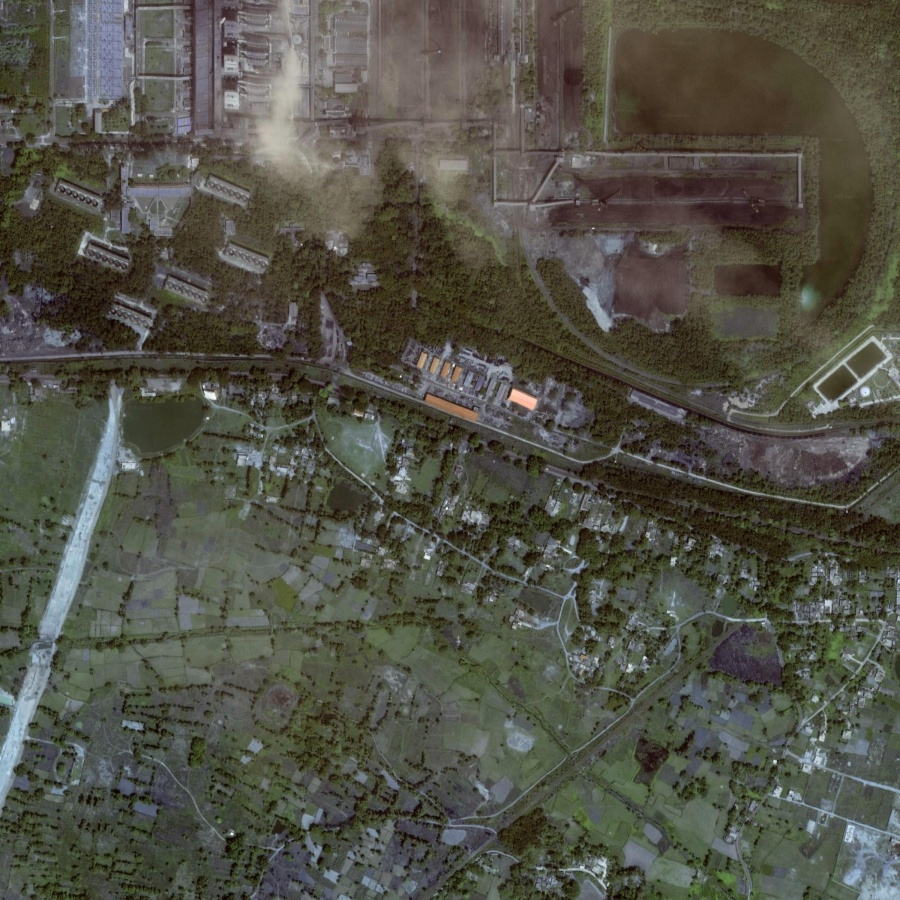PowerPlant: (529, 151, 813, 337)
